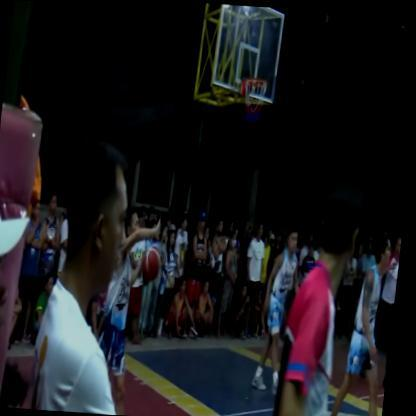basketball: (141, 245, 167, 293)
rim: (237, 71, 271, 134)
